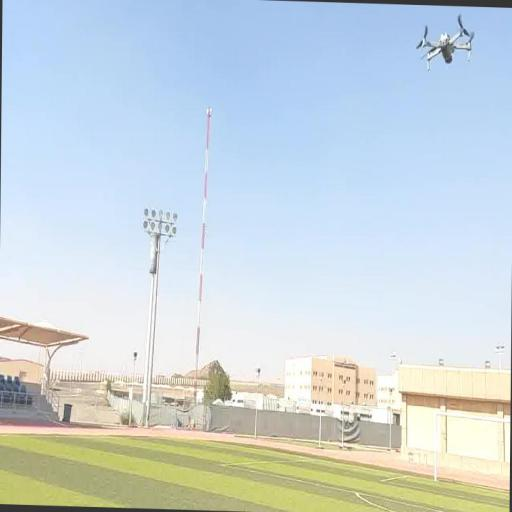drone: (415, 15, 475, 73)
